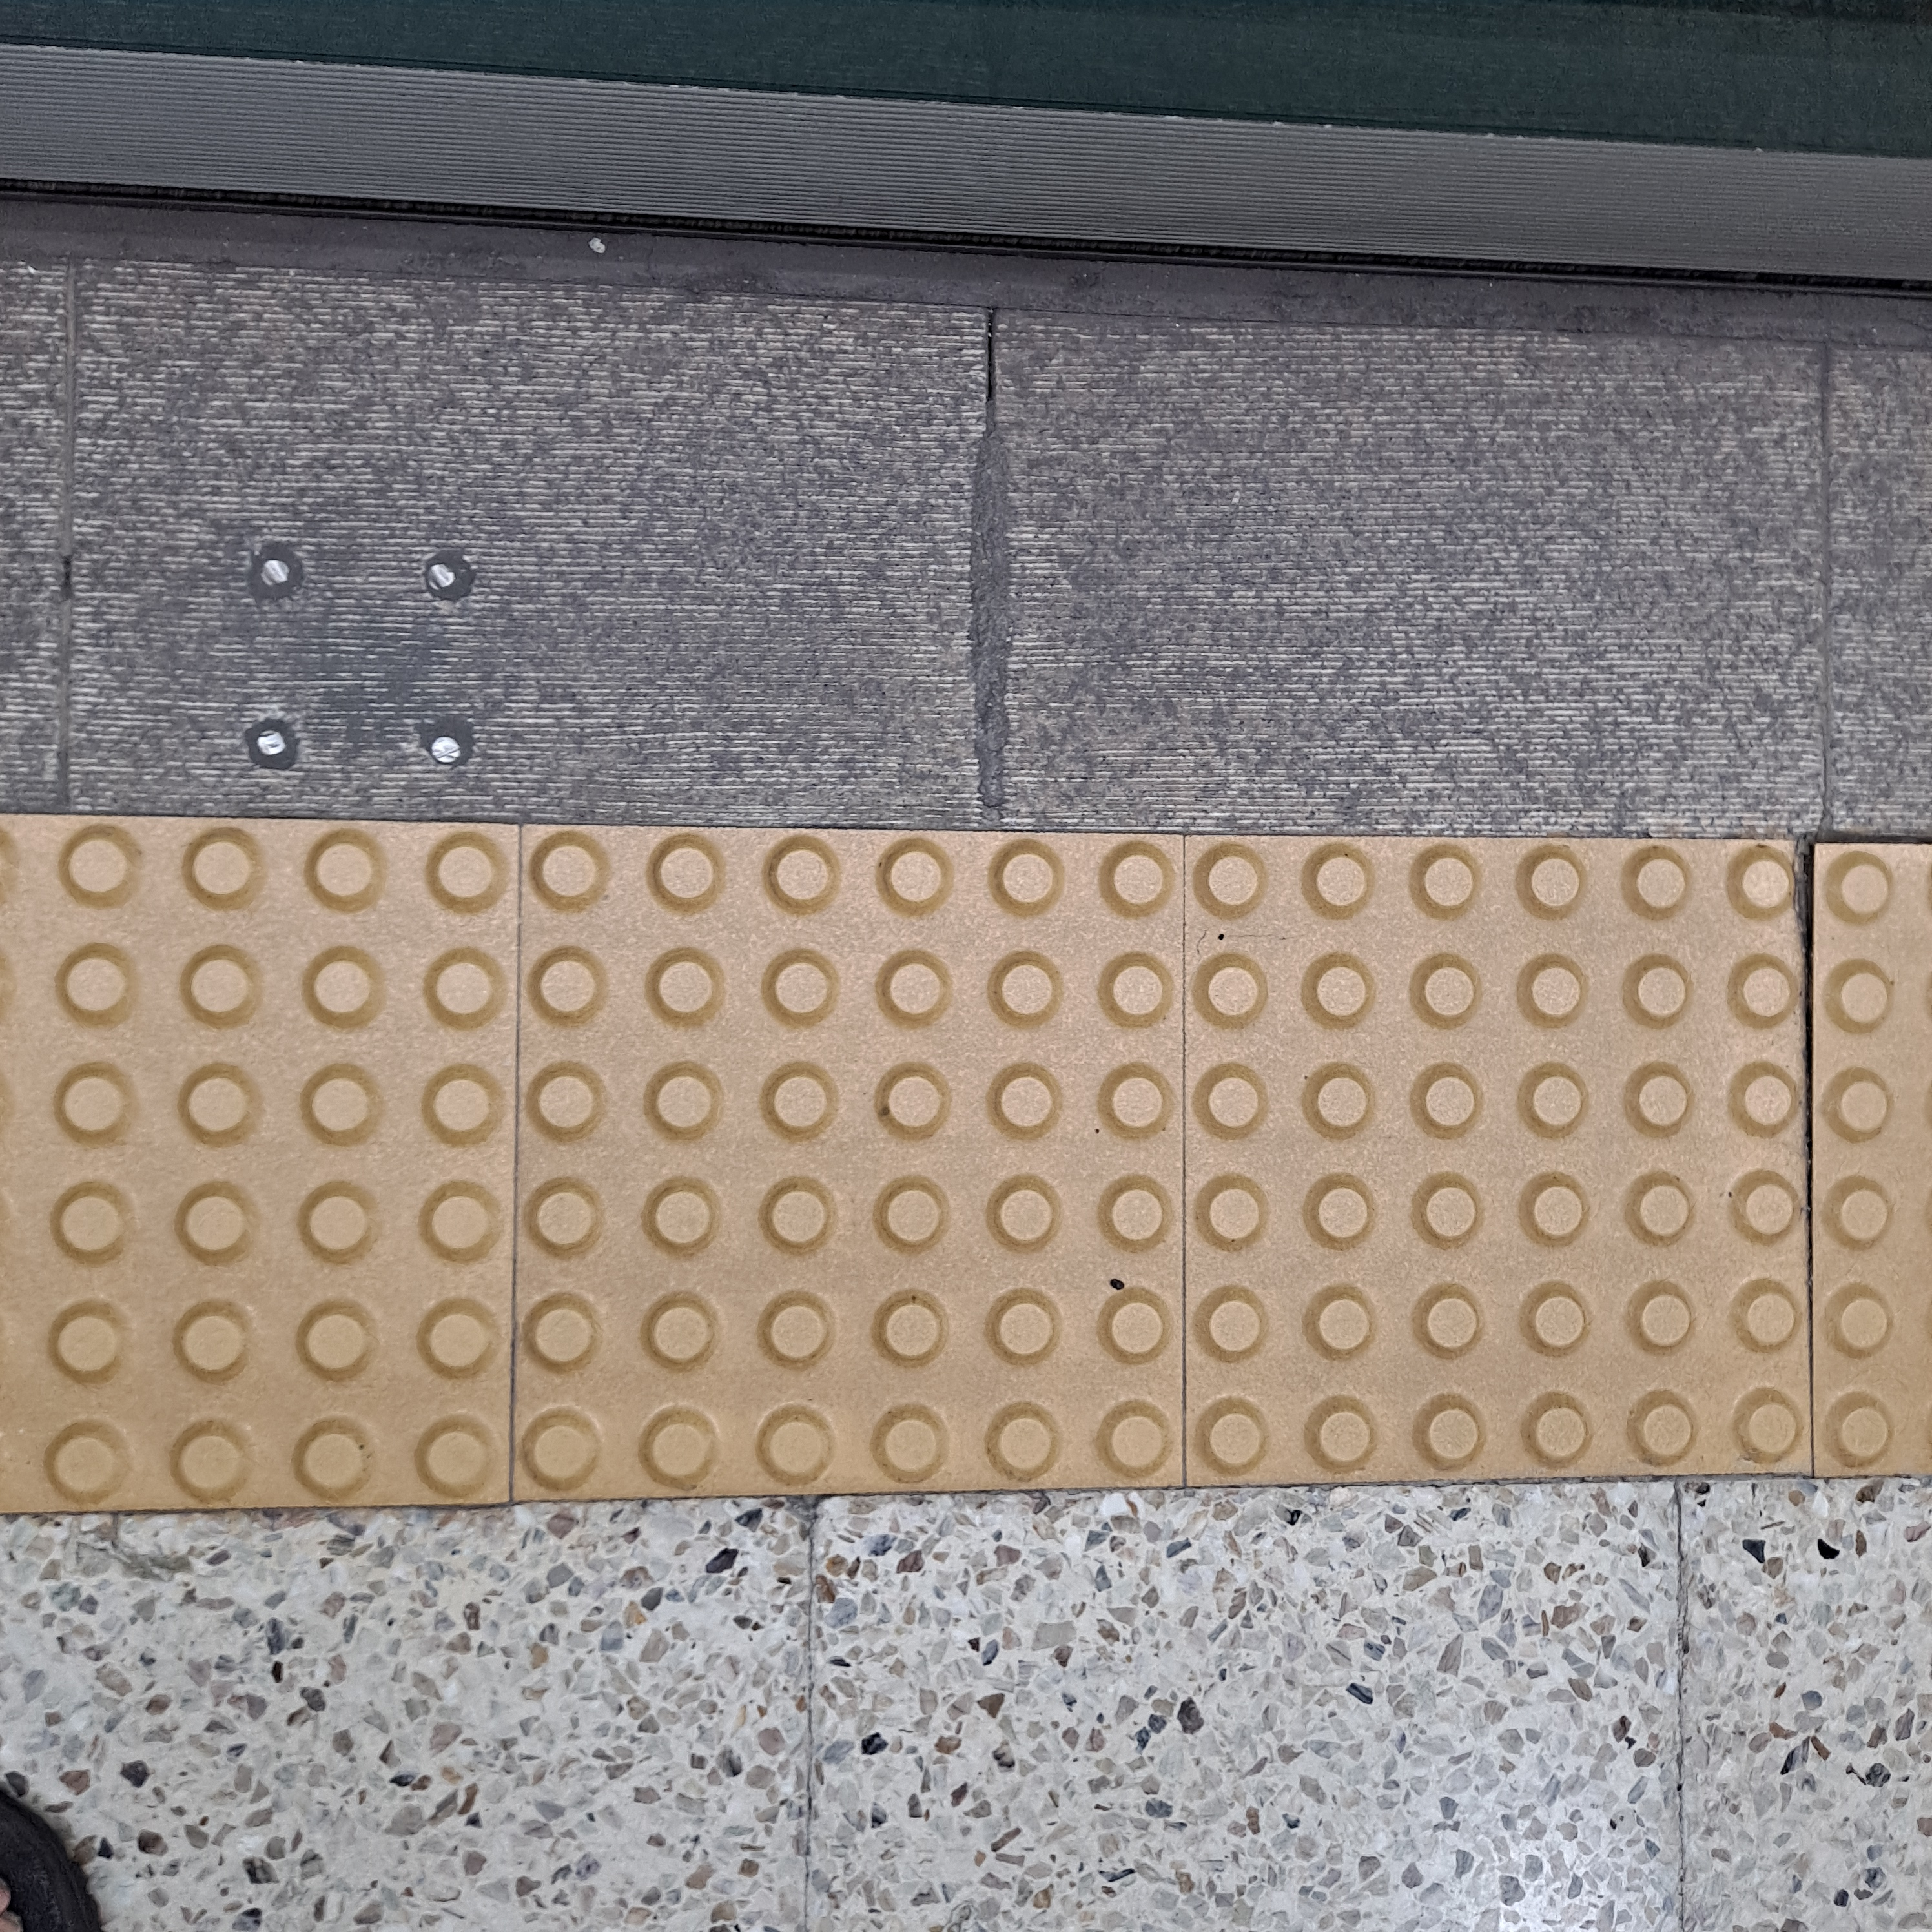warningBlock: (534, 835, 1182, 1491), (1194, 828, 1817, 1481), (0, 824, 511, 1525), (1826, 840, 1932, 1506)
